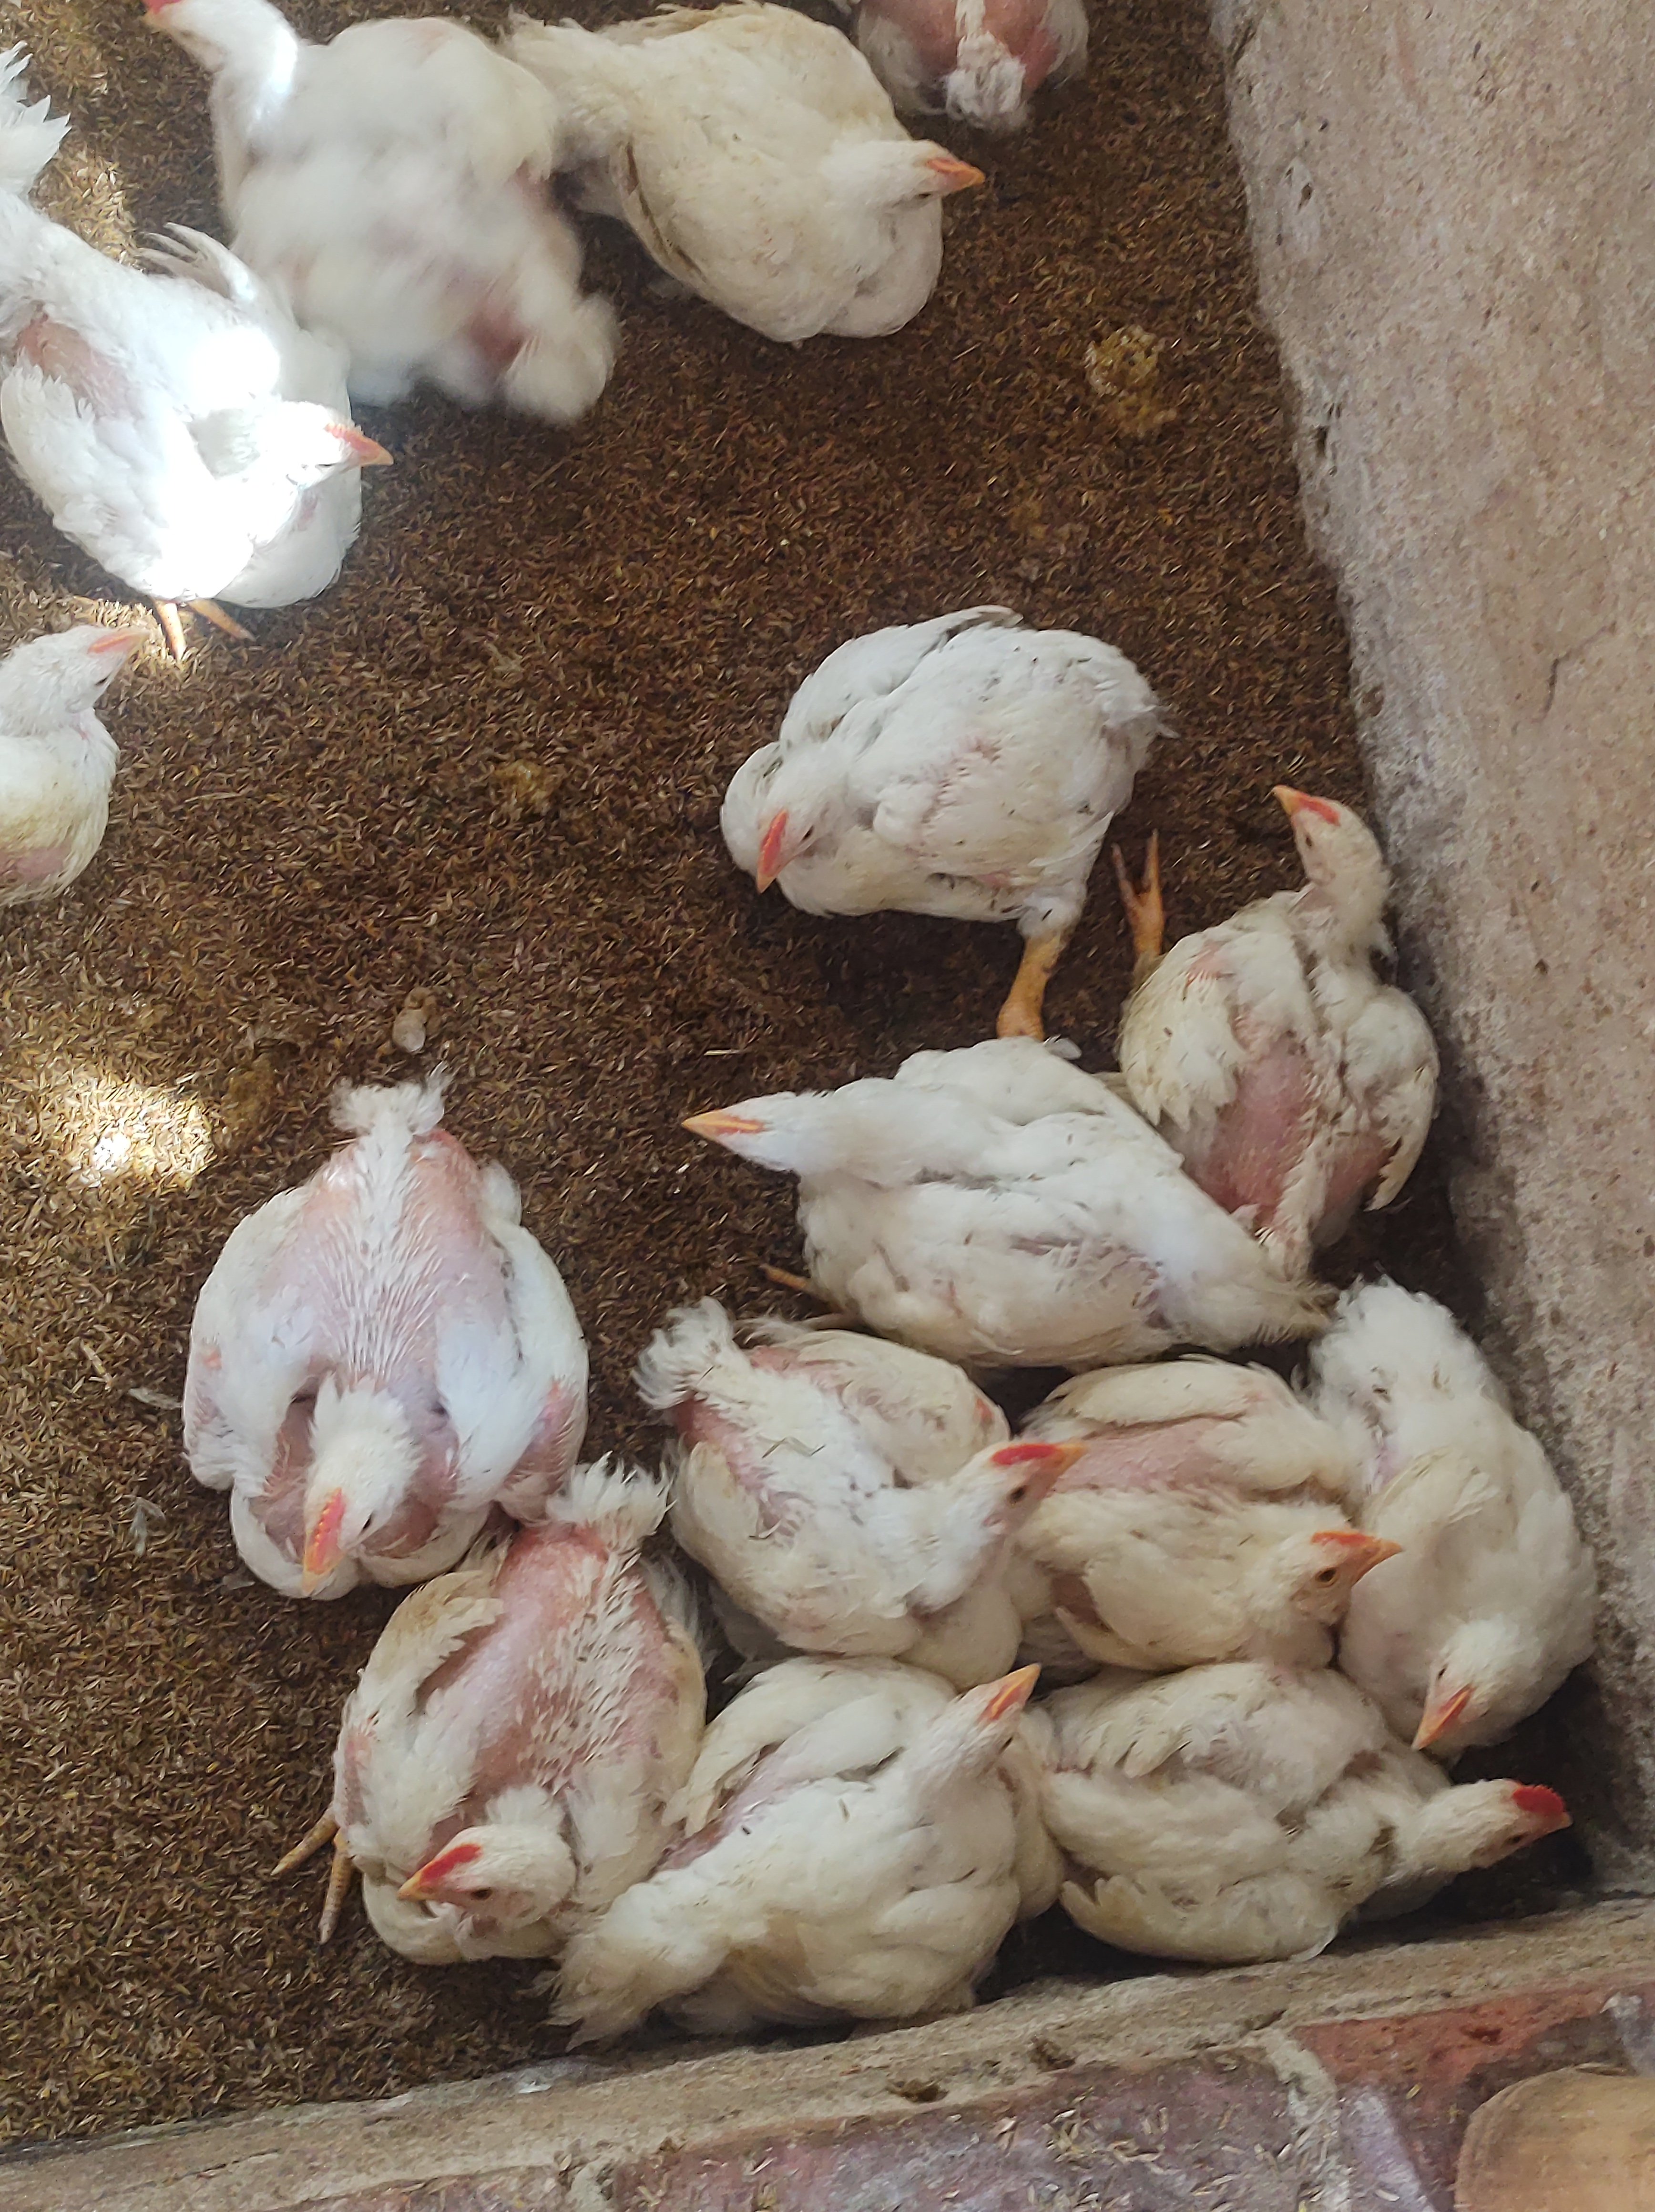Pollos: (648, 970, 1264, 1382), (304, 1509, 774, 2022), (207, 0, 643, 504), (169, 1087, 608, 1586), (624, 1629, 1066, 2095), (701, 621, 1177, 1019), (1085, 1664, 1599, 2003), (0, 195, 396, 621), (1166, 756, 1483, 1247), (1337, 1266, 1655, 1746), (638, 1320, 1080, 1664), (624, 0, 987, 369), (1050, 1349, 1347, 1659), (857, 0, 1186, 165), (0, 602, 172, 916)
